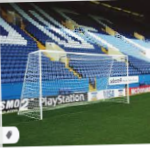goals: (16, 49, 132, 121)
